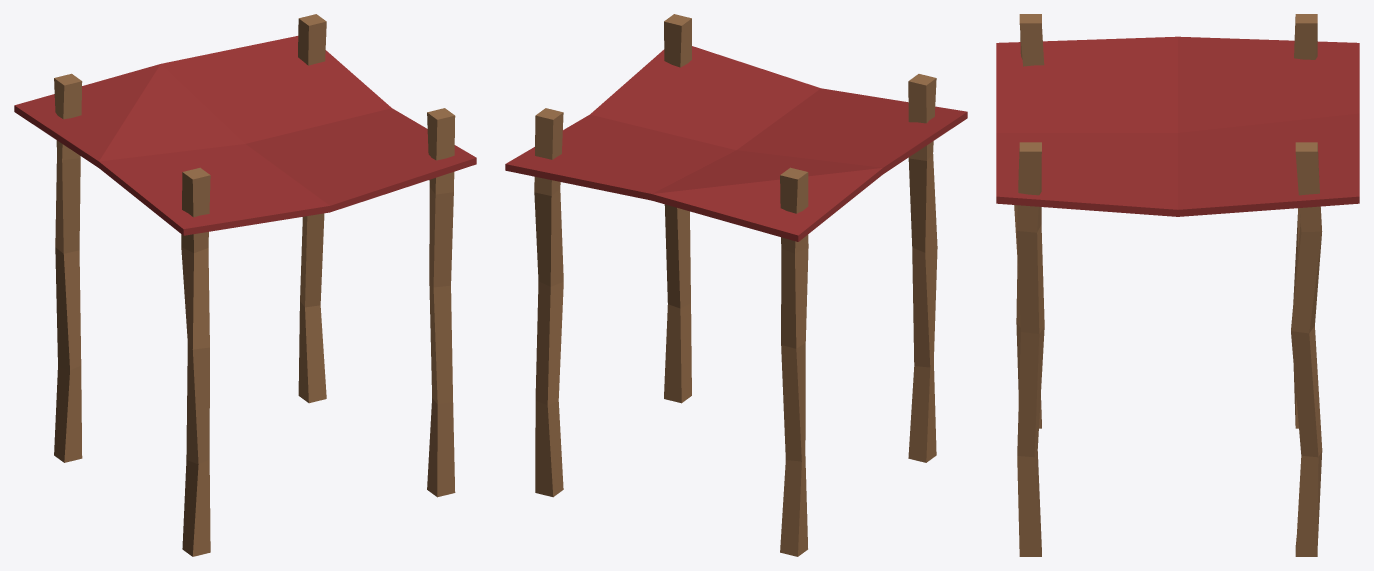
The model's file is Shelter_1.fbx.
3 renders of one model, left to right at view 1: azimuth 30°, elevation 25°; view 2: azimuth 150°, elevation 25°; view 3: azimuth 270°, elevation 25°, orthographic. The views are drawn at different scales.
Visible parts, largest first — view 1: Shelter_mesh; view 2: Shelter_mesh; view 3: Shelter_mesh.
Boxes of the visible parts, left/top/right/bottom form: Shelter_mesh: left=14, top=14, right=476, bottom=556; Shelter_mesh: left=505, top=14, right=967, bottom=556; Shelter_mesh: left=996, top=14, right=1359, bottom=556.
Bounding box in the file's own units: 379 × 466 × 379.
